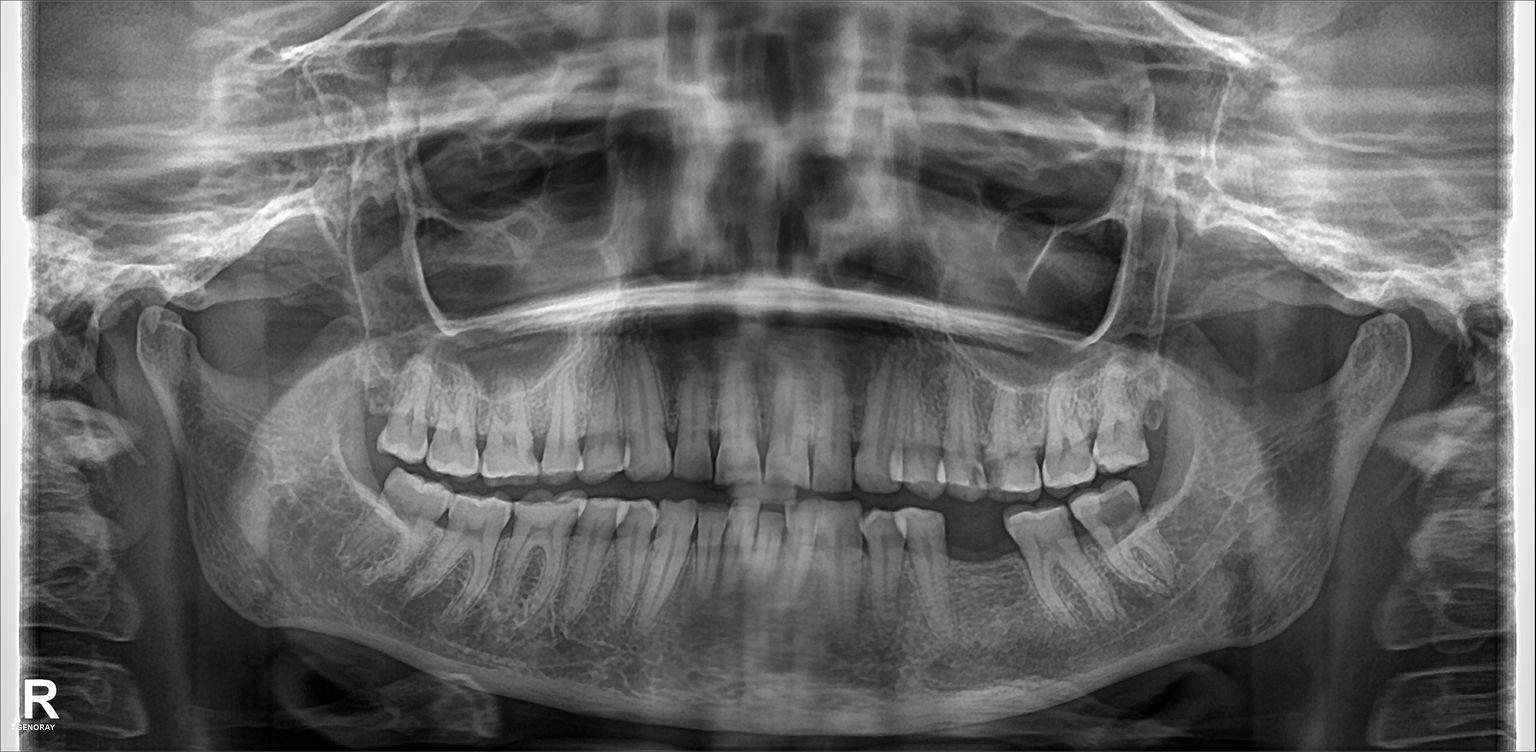Dental Caries: (1102, 497, 1141, 535)
Missing Tooth: (951, 516, 1016, 614), (342, 383, 387, 454)
